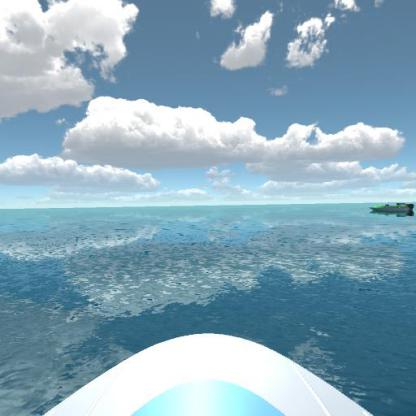usv0: (366, 199, 415, 219)
